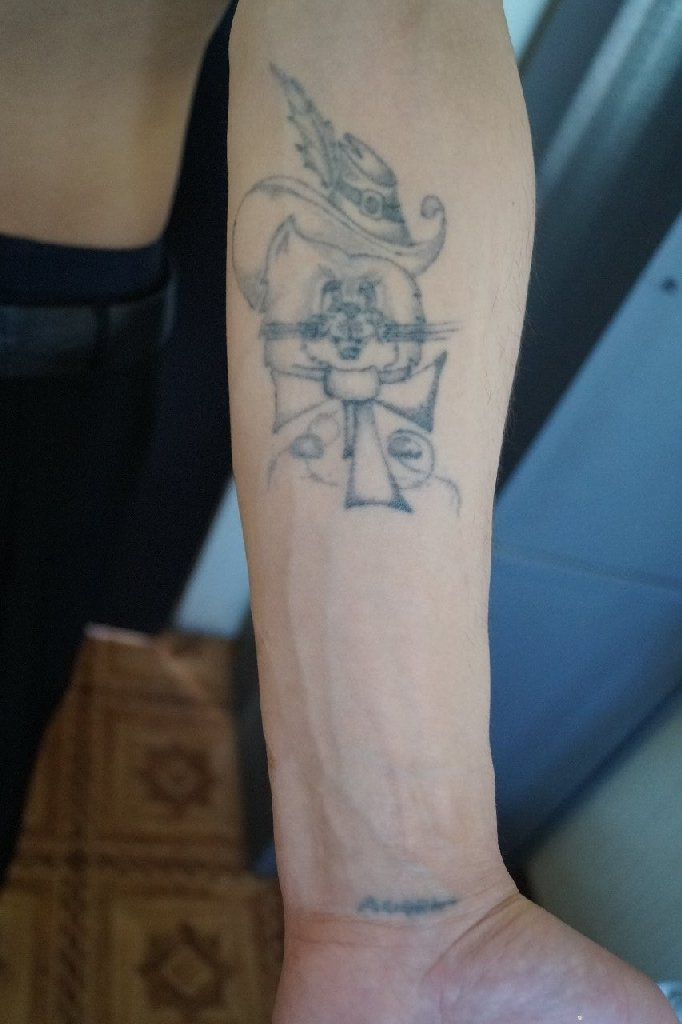tatu8_kot: (227, 59, 484, 541)
